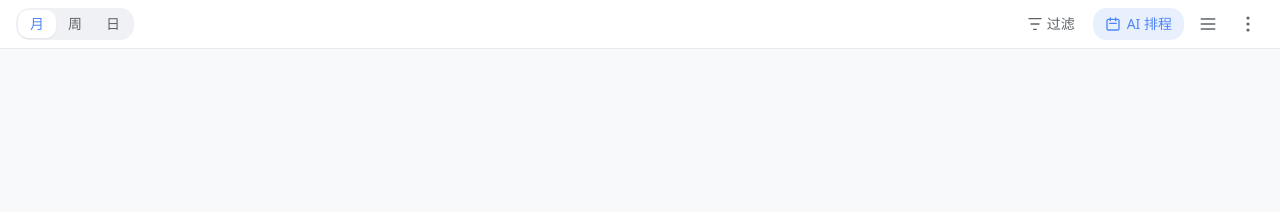
Scenario: CalendarToolbar 日历工具栏 › 更多视图菜单 › 点击更多视图按钮打开菜单
Step 1. Click the button named "更多视图" → [1248, 24], box [1232,8,1264,40]
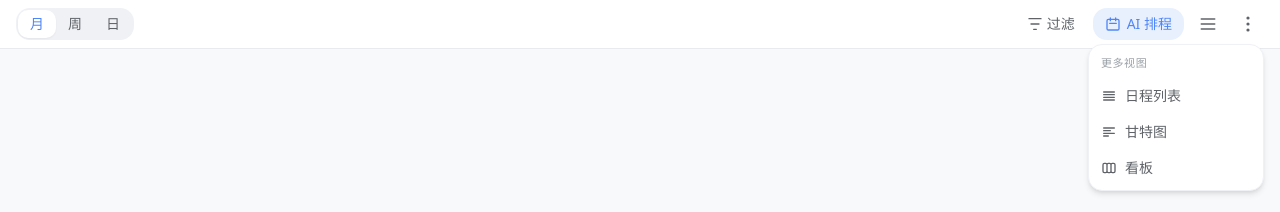
Result: the button "日程列表" is shown at [1089,78,1263,114]
Result: the button "甘特图" is shown at [1089,114,1263,150]
Result: the button "看板" is shown at [1089,150,1263,186]
